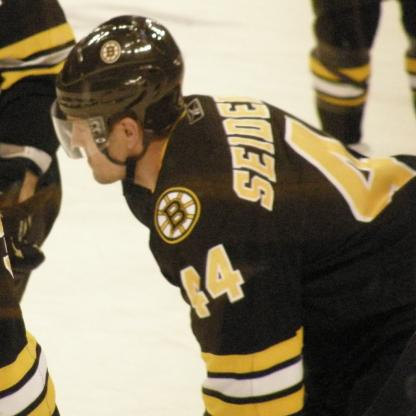Helmet: (52, 17, 193, 178)
